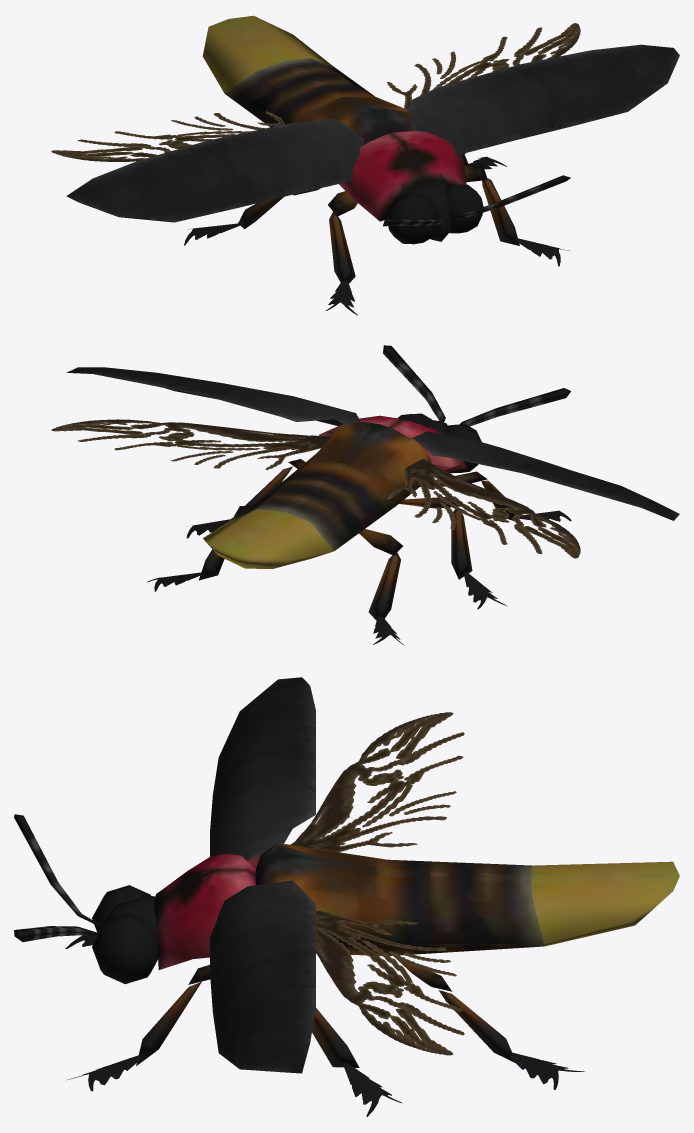
File: firefly.glb
3 renders of one model, top to bottom at view 1: azimuth 30°, elevation 25°; view 2: azimuth 150°, elevation 25°; view 3: azimuth 270°, elevation 25°, orthographic. The views are drawn at different scales.
Size of the model in its own units: 3.51 by 0.671 by 2.5.
Materials: 2 (2 with a texture image).
